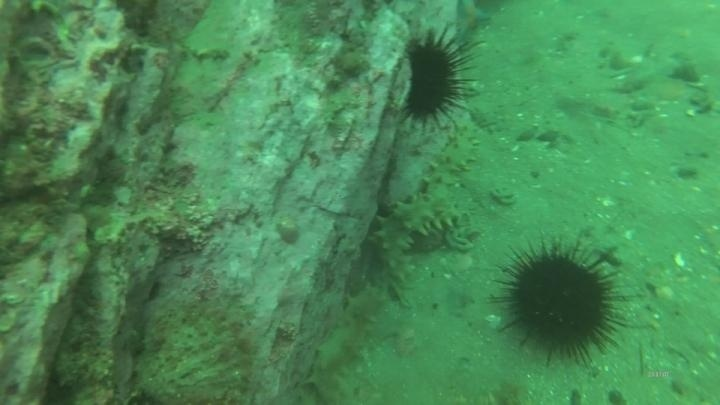echinus: (492, 236, 628, 365), (399, 29, 478, 129)
holothurian: (304, 284, 390, 403), (369, 190, 464, 289), (419, 114, 484, 200)
starfish: (448, 0, 493, 50)
